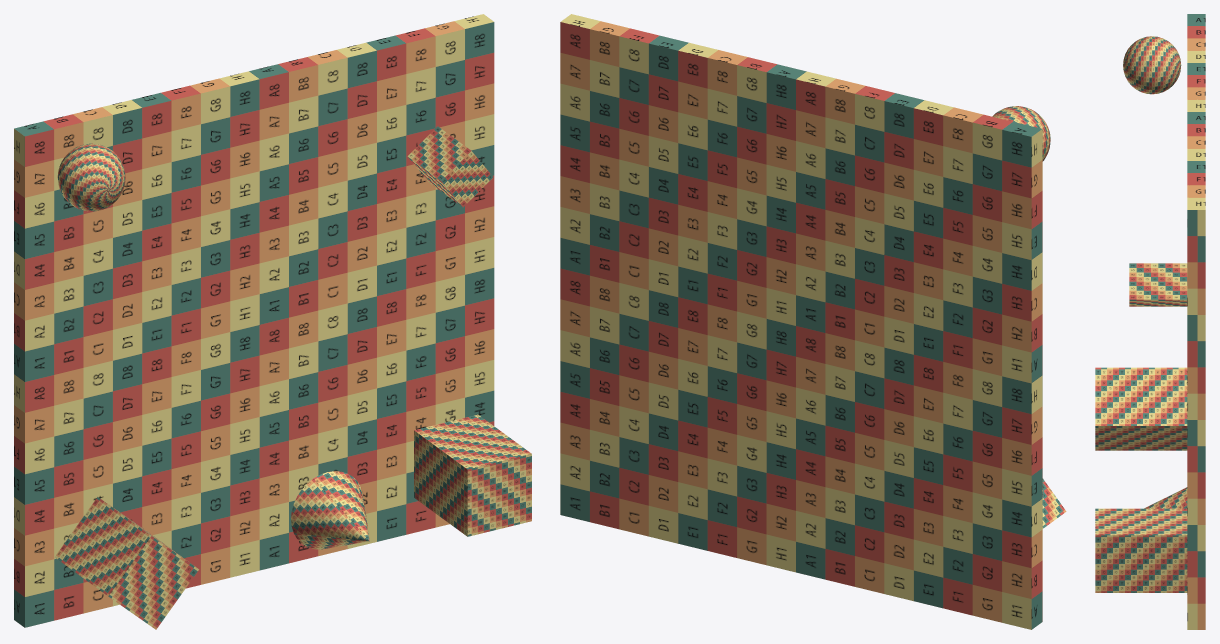
The model's file is CGameTestScene_a.glb.
The picture shows the model from 3 angles, left to right: view 1: azimuth 30°, elevation 25°; view 2: azimuth 150°, elevation 25°; view 3: azimuth 270°, elevation 25°; orthographic projection. The views are drawn at different scales.
Visible parts, largest first — view 1: Cube; view 2: Cube; view 3: Cube.
Boxes of the visible parts, box(x1,y1,x2,y2) form: Cube: box(14, 14, 531, 629); Cube: box(560, 14, 1066, 629); Cube: box(1095, 14, 1205, 629).
Size of the model in its own units: 25.37 by 25.37 by 6.04.
Materials: 1 (1 with a texture image).
